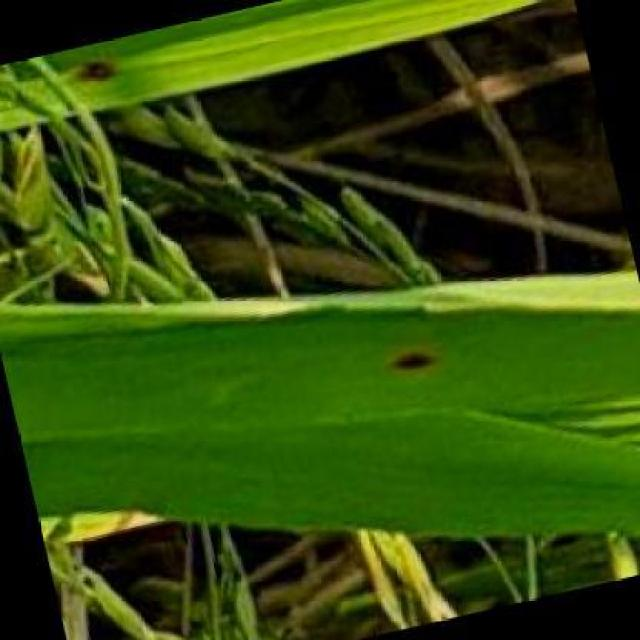Leaf_Blast: (371, 327, 454, 387), (60, 44, 129, 99)
